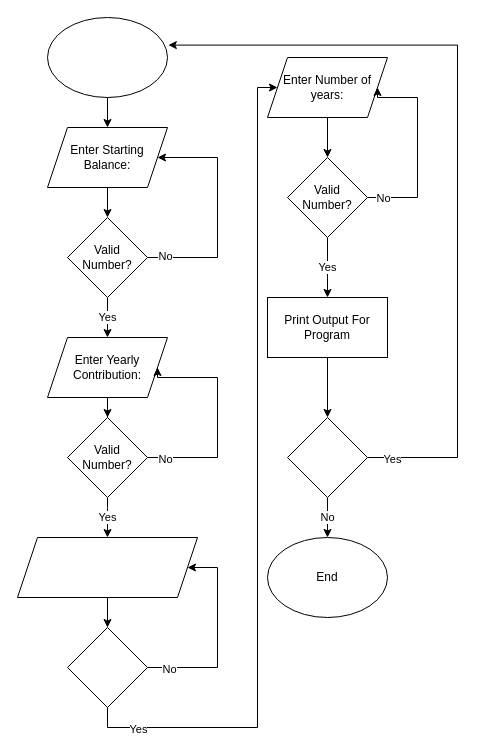
This 483x753 diagram has some shape labels left out. Here are the shapes that lost their labels. From the top down, the box of each, then its label:
(46, 16, 168, 98): Start
(286, 416, 368, 498): Restart?
(16, 536, 198, 598): Enter Average Return On Investment as %:
(66, 626, 148, 708): Valid %?
